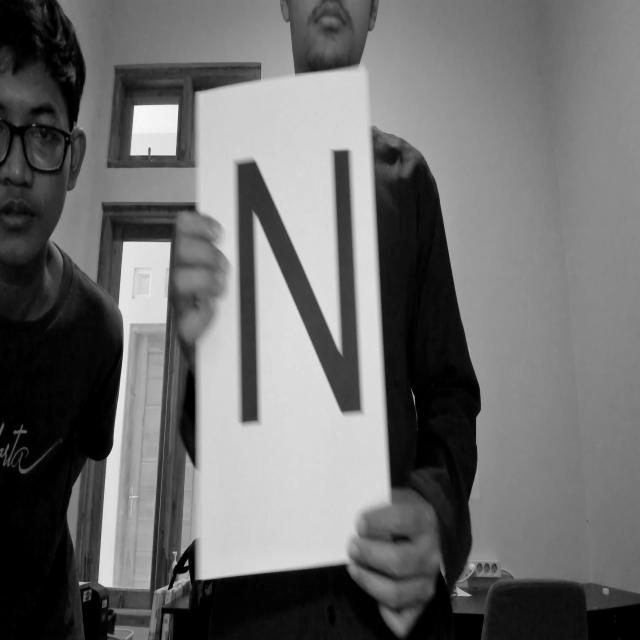n: (216, 129, 383, 470)
